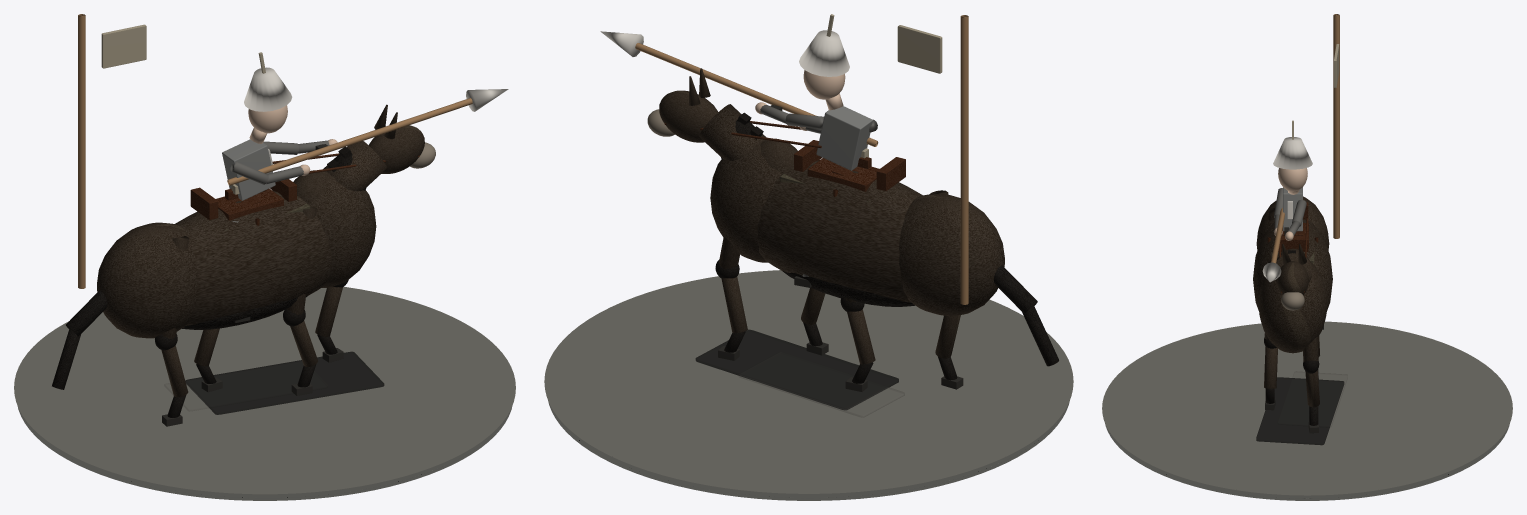
Rendered from cavalry_troop.glb.
3 views of the same model, side by side, from view 1: azimuth 30°, elevation 25°; view 2: azimuth 150°, elevation 25°; view 3: azimuth 270°, elevation 25° (orthographic). The views are drawn at different scales.
Parts seen in each view (by area): view 1: cavalry_thin_bronze_ring, cavalry_warhorse_barrel_body, cavalry_warhorse_haunch_mass, cavalry_shadow, cavalry_warhorse_chest_mass, cavalry_stone_dais, cavalry_banner_pole, cavalry_warhorse_lower_head, cavalry_rider_long_lance, cavalry_banner_flag, cavalry_rider_leaning_torso, cavalry_warhorse_lower_arched_neck (+12 smaller); view 2: cavalry_thin_bronze_ring, cavalry_warhorse_barrel_body, cavalry_warhorse_haunch_mass, cavalry_shadow, cavalry_warhorse_chest_mass, cavalry_stone_dais, cavalry_banner_pole, cavalry_rider_leaning_torso, cavalry_warhorse_lower_head, cavalry_warhorse_lower_arched_neck, cavalry_banner_flag, cavalry_rider_helmet (+14 smaller); view 3: cavalry_thin_bronze_ring, cavalry_shadow, cavalry_warhorse_chest_mass, cavalry_stone_dais, cavalry_warhorse_barrel_body, cavalry_banner_pole, cavalry_rider_helmet, cavalry_warhorse_lower_head, cavalry_warhorse_haunch_mass, cavalry_rider_head, cavalry_warhorse_lower_leg_2.
Part boxes in pixels (x1,y1,x2,y2): cavalry_thin_bronze_ring: (14, 286, 515, 494); cavalry_warhorse_barrel_body: (174, 190, 332, 327); cavalry_warhorse_haunch_mass: (97, 222, 197, 338); cavalry_shadow: (185, 351, 384, 414); cavalry_warhorse_chest_mass: (308, 171, 376, 287); cavalry_stone_dais: (17, 406, 512, 500); cavalry_banner_pole: (78, 14, 85, 288); cavalry_warhorse_lower_head: (369, 125, 424, 173); cavalry_rider_long_lance: (227, 98, 472, 185); cavalry_banner_flag: (101, 24, 146, 68); cavalry_rider_leaning_torso: (222, 139, 275, 200); cavalry_warhorse_lower_arched_neck: (323, 141, 386, 191); cavalry_thin_bronze_ring: (544, 270, 1073, 493); cavalry_warhorse_barrel_body: (757, 160, 922, 304); cavalry_warhorse_haunch_mass: (899, 194, 1004, 315); cavalry_shadow: (695, 329, 898, 410); cavalry_warhorse_chest_mass: (710, 139, 781, 262); cavalry_stone_dais: (548, 401, 1069, 500); cavalry_banner_pole: (960, 15, 968, 304); cavalry_rider_leaning_torso: (816, 106, 872, 170); cavalry_warhorse_lower_head: (659, 90, 718, 142); cavalry_warhorse_lower_arched_neck: (699, 104, 766, 160); cavalry_banner_flag: (897, 25, 942, 73); cavalry_rider_helmet: (799, 30, 849, 76); cavalry_thin_bronze_ring: (1102, 321, 1512, 495); cavalry_shadow: (1256, 377, 1344, 445); cavalry_warhorse_chest_mass: (1258, 260, 1327, 353); cavalry_stone_dais: (1105, 423, 1509, 500); cavalry_warhorse_barrel_body: (1253, 219, 1332, 311); cavalry_banner_pole: (1333, 14, 1339, 238); cavalry_rider_helmet: (1273, 137, 1312, 169); cavalry_warhorse_lower_head: (1277, 261, 1308, 294); cavalry_warhorse_haunch_mass: (1256, 196, 1329, 250); cavalry_rider_head: (1278, 168, 1307, 191); cavalry_warhorse_lower_leg_2: (1264, 346, 1277, 388).
Size of the model in its own units: 2.32 by 2.03 by 2.26.
16 materials, 4 textured.
